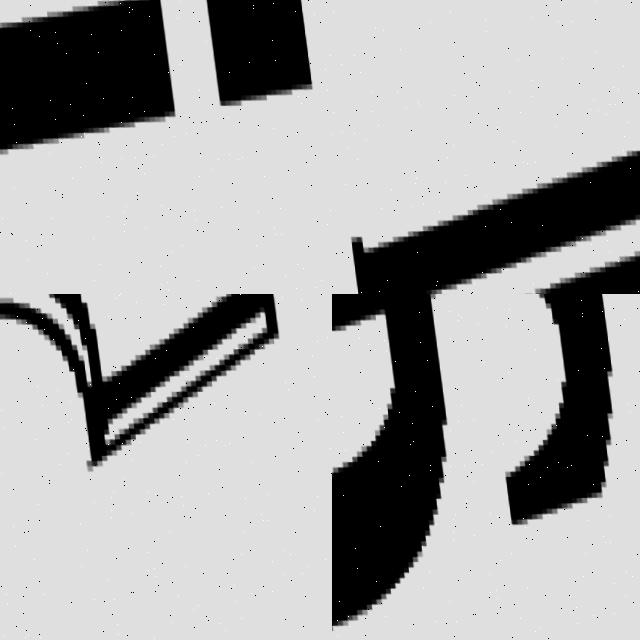5: (0, 294, 332, 636)
A: (332, 294, 640, 640)
H: (354, 139, 640, 294)
I: (0, 0, 313, 205)
